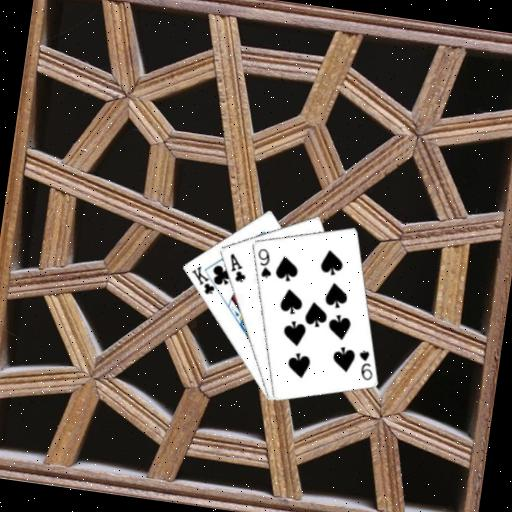9S: (352, 345, 377, 382), (251, 244, 276, 280)
AC: (223, 249, 250, 284)
KC: (186, 261, 225, 298)
